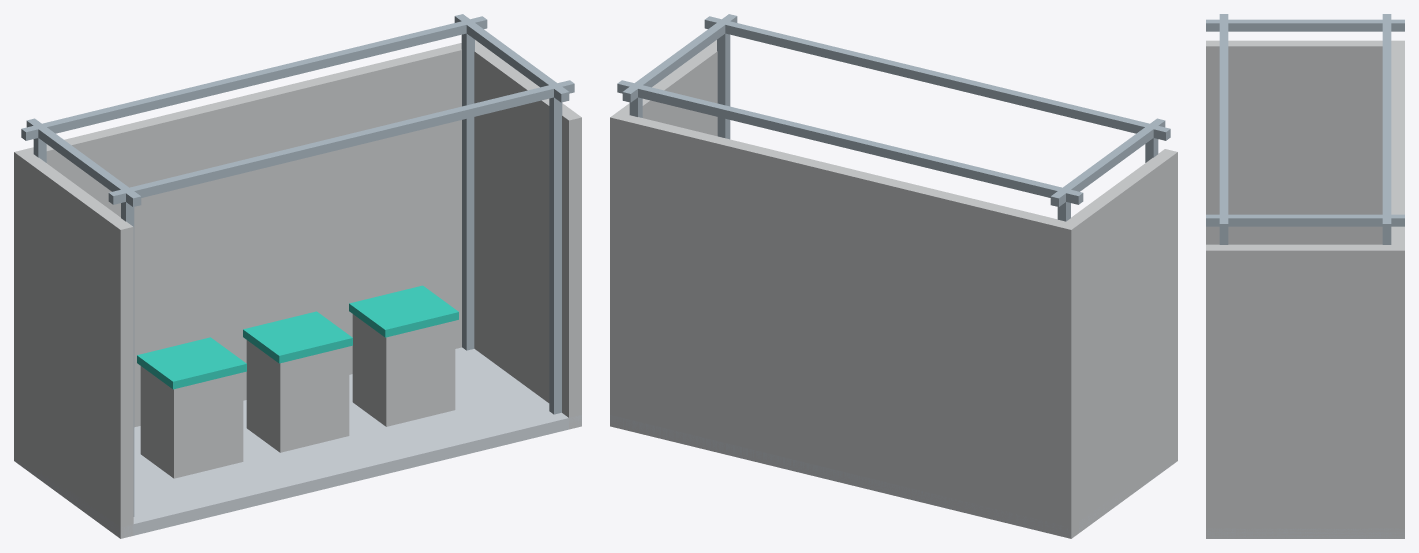
The picture shows the model from 3 angles, left to right: view 1: azimuth 30°, elevation 25°; view 2: azimuth 150°, elevation 25°; view 3: azimuth 270°, elevation 25°; orthographic projection. The views are drawn at different scales.
Parts seen in each view (by area): view 1: Exhibition Booth Concept; view 2: Exhibition Booth Concept; view 3: Exhibition Booth Concept.
Part boxes in pixels (left/top/right/bottom): Exhibition Booth Concept: left=14, top=14, right=581, bottom=538; Exhibition Booth Concept: left=610, top=14, right=1177, bottom=538; Exhibition Booth Concept: left=1206, top=14, right=1404, bottom=538.
Size of the model in its own units: 5 by 3.49 by 2.
